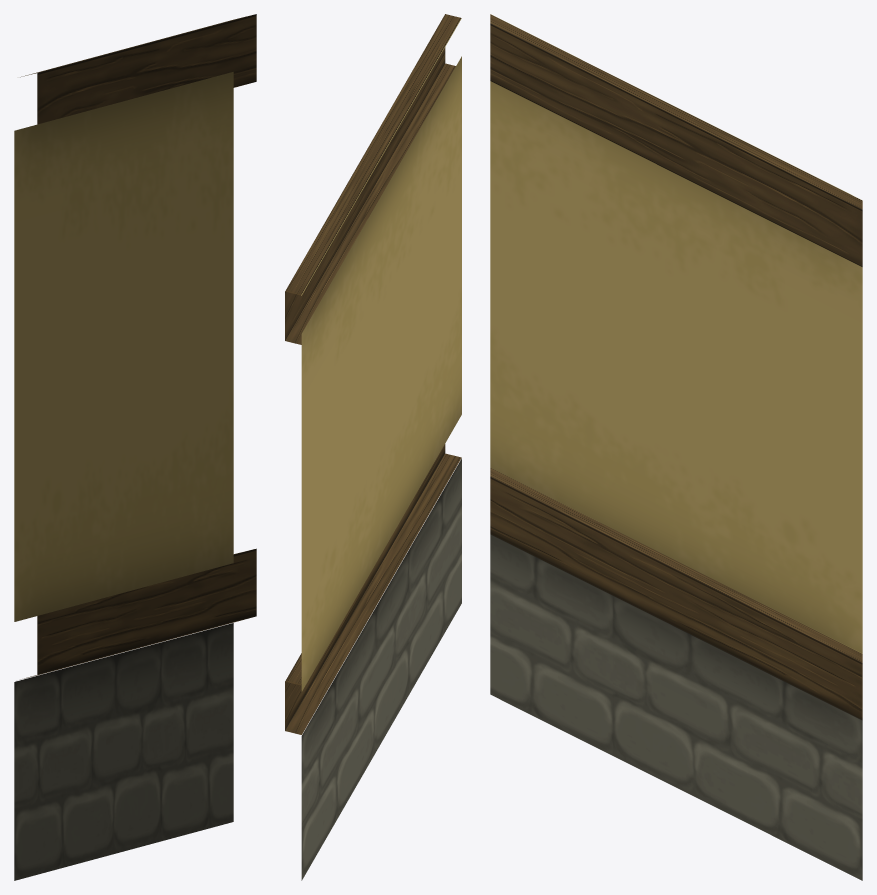
File: sciana_04.fbx
3 renders of one model, left to right at view 1: azimuth 30°, elevation 25°; view 2: azimuth 150°, elevation 25°; view 3: azimuth 270°, elevation 25°, orthographic. The views are drawn at different scales.
Visible parts, largest first — view 1: Plane; view 2: Plane; view 3: Plane.
Part boxes in pixels (x1=…): Plane: x1=14, y1=14, x2=256, y2=880; Plane: x1=285, y1=14, x2=461, y2=880; Plane: x1=490, y1=14, x2=862, y2=880.
Size of the model in its own units: 27.11 by 1157 by 450.
